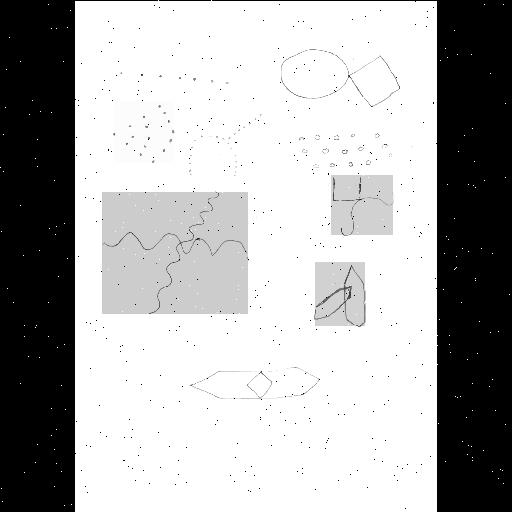shape-1: (281, 48, 399, 108)
shape-2: (120, 68, 228, 84)
shape-3: (300, 132, 392, 170)
shape-4: (114, 101, 174, 163)
shape-5: (331, 175, 393, 235)
shape-6: (188, 110, 262, 176)
shape-7: (102, 192, 248, 314)
shape-8: (315, 262, 365, 326)
shape-9: (193, 364, 319, 398)
